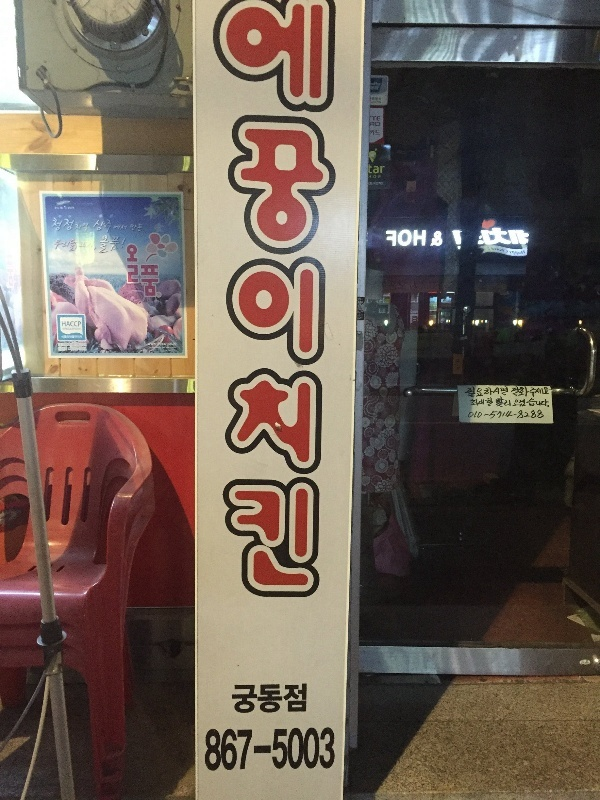text: (321, 4, 337, 375), (225, 4, 240, 375), (241, 4, 256, 375), (257, 4, 272, 375), (273, 4, 288, 375), (289, 4, 304, 375), (305, 4, 320, 375), (211, 4, 224, 375), (209, 727, 224, 772), (225, 727, 240, 772), (241, 727, 256, 772), (257, 727, 272, 772), (273, 727, 288, 772), (289, 727, 304, 772), (305, 727, 320, 772), (321, 727, 335, 772), (241, 683, 256, 715), (257, 683, 272, 715), (273, 683, 288, 715), (289, 683, 304, 715), (145, 264, 159, 297), (129, 244, 139, 284), (433, 335, 448, 357), (481, 227, 496, 247), (497, 227, 512, 247), (513, 227, 528, 247), (419, 335, 432, 357), (401, 229, 416, 248), (113, 235, 127, 254), (386, 229, 400, 248), (232, 683, 240, 715), (357, 298, 368, 321), (434, 230, 448, 248), (98, 219, 112, 234), (481, 386, 496, 400), (513, 386, 528, 400), (529, 386, 544, 400), (101, 235, 112, 254), (65, 239, 80, 252), (81, 239, 96, 252), (497, 396, 512, 409), (417, 229, 427, 248), (467, 386, 480, 400), (497, 386, 510, 400), (369, 164, 385, 175), (53, 217, 64, 232), (529, 397, 544, 408), (529, 409, 545, 419), (65, 342, 80, 352), (65, 217, 75, 232), (481, 409, 496, 419), (497, 409, 512, 419), (513, 409, 528, 419), (497, 246, 512, 256), (481, 397, 494, 408), (515, 397, 528, 408), (513, 246, 527, 256), (205, 727, 208, 772), (497, 246, 512, 255), (371, 95, 384, 105), (513, 246, 527, 255), (455, 358, 464, 372), (469, 397, 480, 408), (55, 239, 64, 252), (131, 223, 144, 232), (370, 115, 384, 123), (370, 121, 384, 129), (370, 129, 384, 137), (469, 409, 480, 419), (65, 321, 80, 328), (141, 264, 144, 297), (369, 181, 384, 187), (487, 246, 496, 256), (114, 225, 128, 231), (488, 246, 496, 255), (81, 223, 89, 232), (369, 174, 381, 180), (545, 386, 550, 400), (374, 81, 384, 88), (545, 397, 551, 408), (449, 335, 452, 357), (371, 82, 384, 87), (371, 86, 384, 91), (305, 683, 307, 715), (65, 335, 80, 339), (58, 342, 64, 352), (81, 342, 87, 352), (75, 223, 80, 232), (65, 206, 75, 210), (127, 244, 128, 284), (529, 227, 531, 247), (55, 206, 64, 210), (113, 219, 115, 234), (62, 321, 64, 328), (97, 239, 98, 252), (62, 335, 64, 339), (81, 335, 83, 339), (81, 321, 82, 328)
